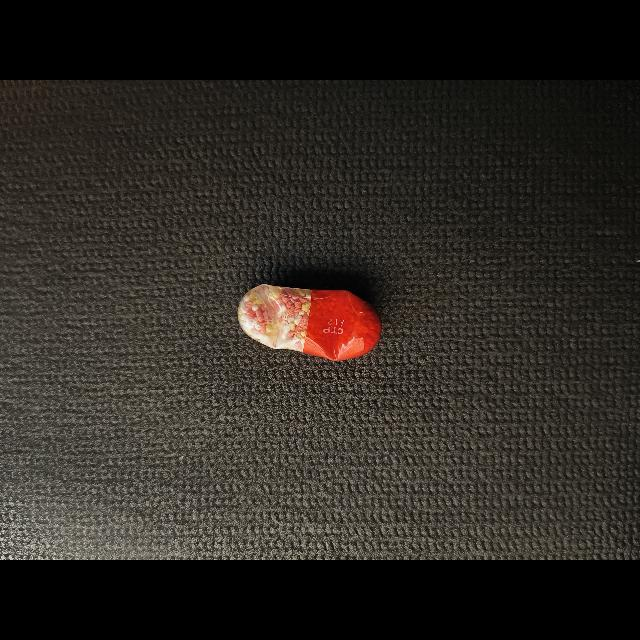Defective Capsule: (237, 284, 382, 361)
